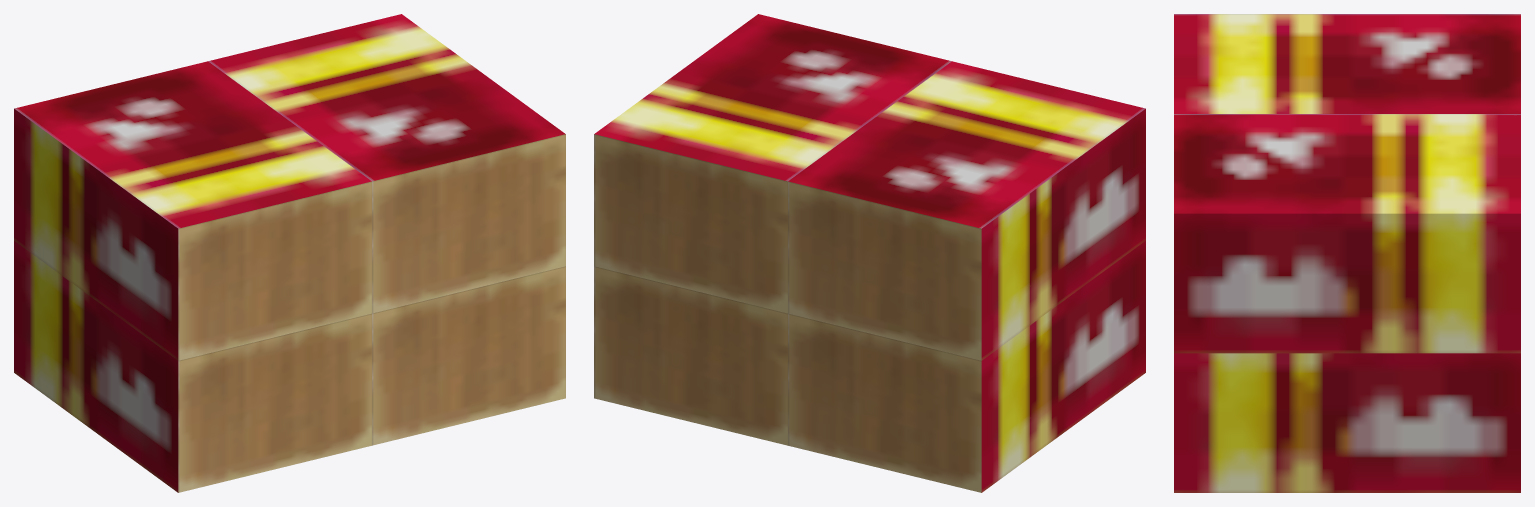
Rendered from gunshopammoboxredblock.obj.
3 renders of one model, left to right at view 1: azimuth 30°, elevation 25°; view 2: azimuth 150°, elevation 25°; view 3: azimuth 270°, elevation 25°, orthographic. The views are drawn at different scales.
Parts seen in each view (by area): view 1: gunshopammoboxredblock.m2; view 2: gunshopammoboxredblock.m2; view 3: gunshopammoboxredblock.m2.
Boxes of the visible parts, x1,y1,x2,y2 form: gunshopammoboxredblock.m2: (14,14,565,492); gunshopammoboxredblock.m2: (594,14,1145,492); gunshopammoboxredblock.m2: (1174,14,1520,492).
Bounding box in the file's own units: 0.503 × 0.3277 × 0.3689.
1 material, 1 textured.
